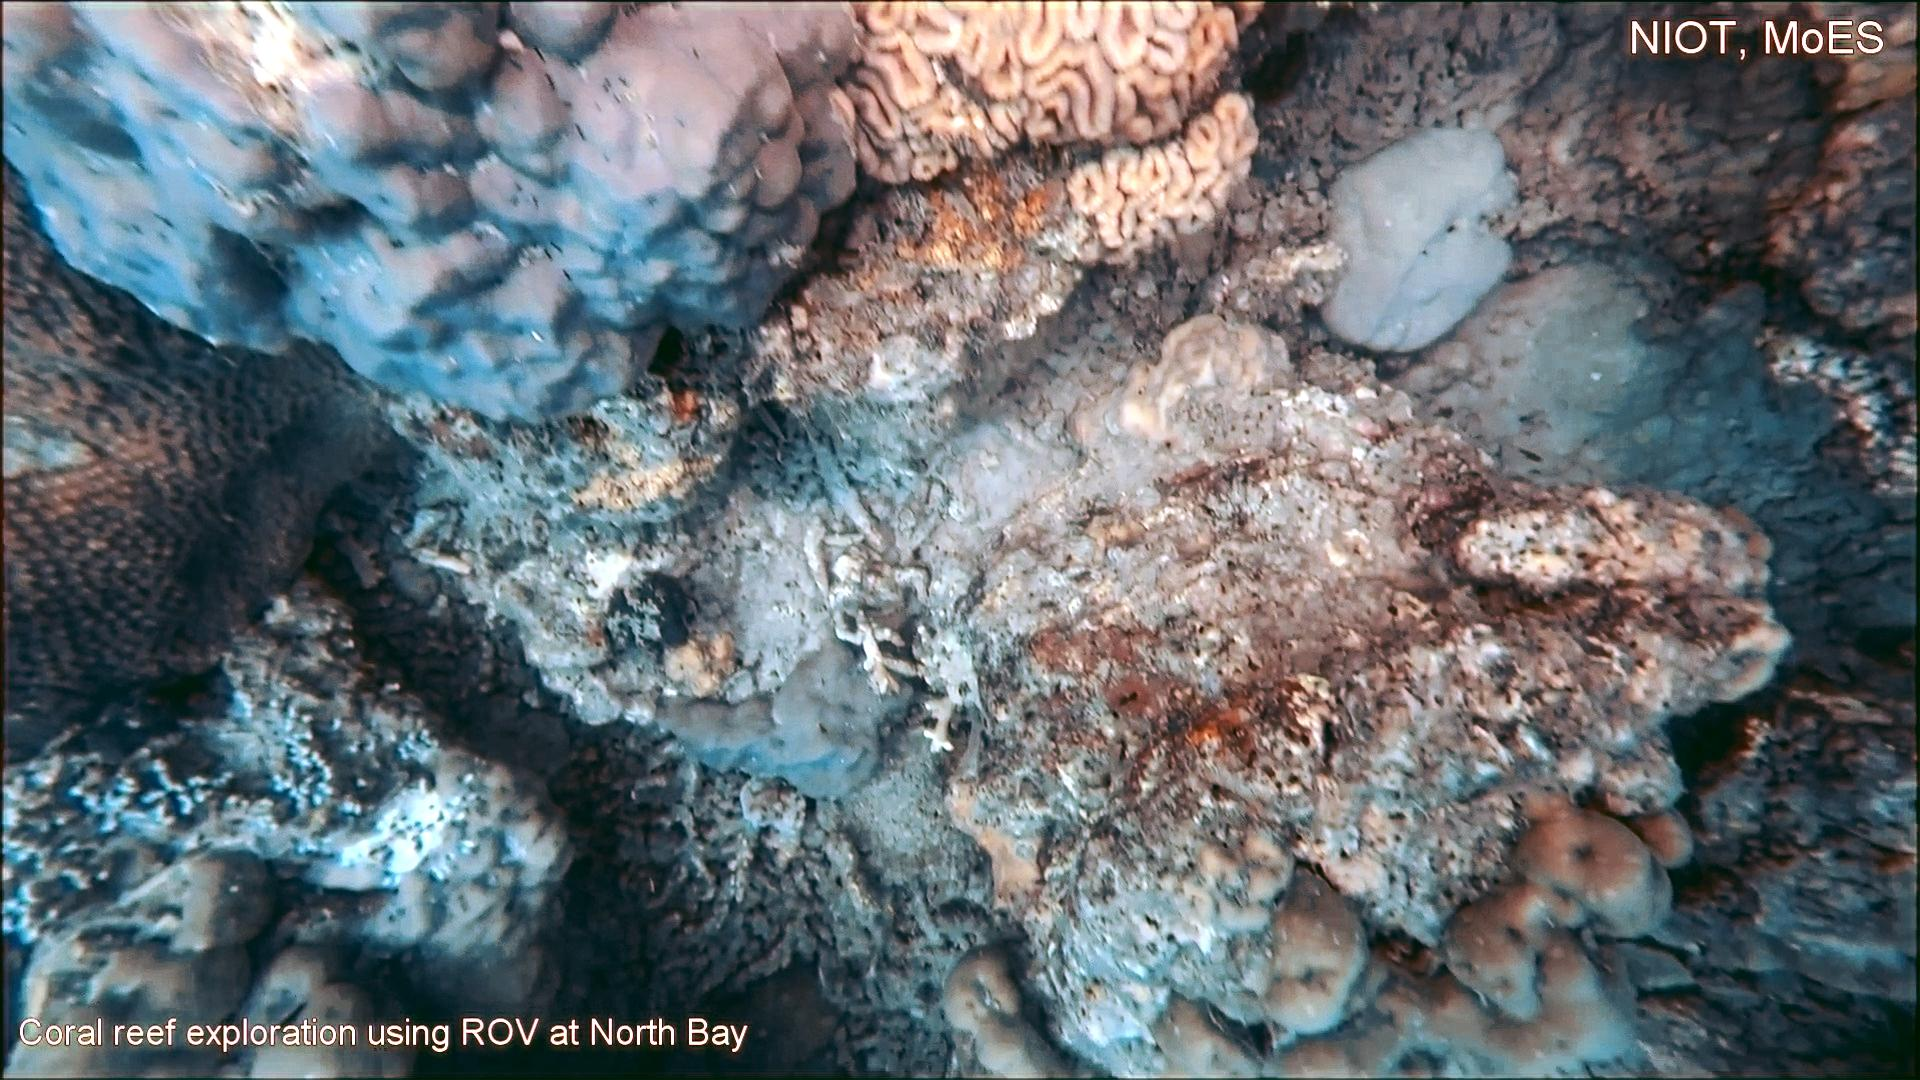Lobophyllia: (822, 0, 1267, 261)
